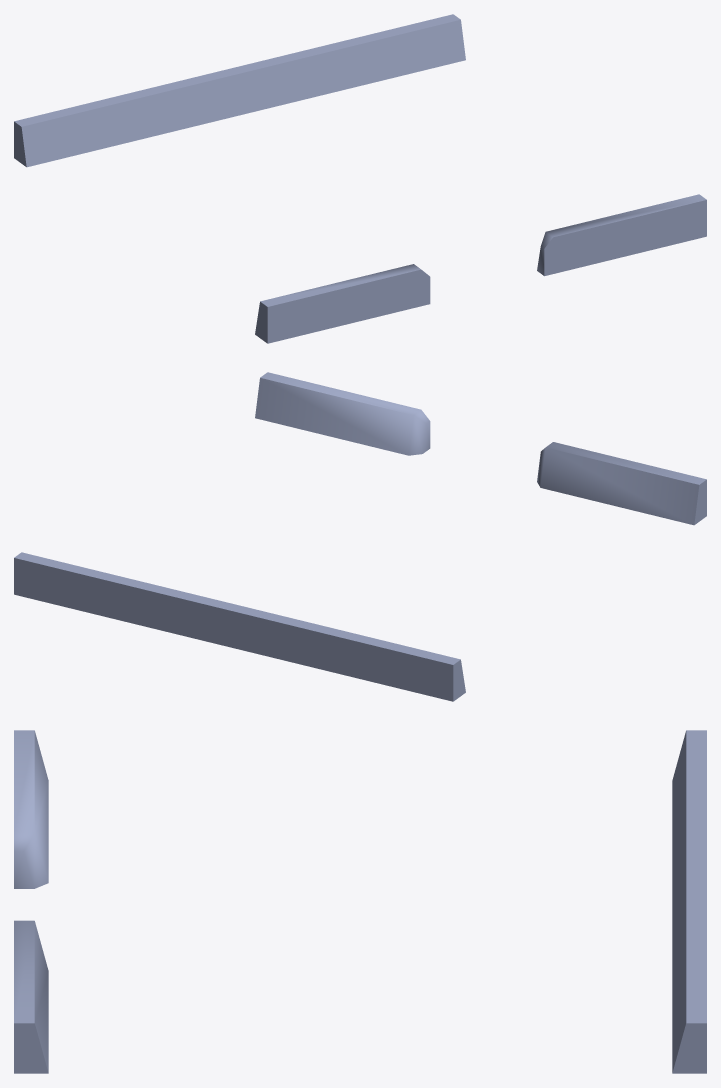
File: road-driveway-single-barrier.glb
3 renders of one model, top to bottom at view 1: azimuth 30°, elevation 25°; view 2: azimuth 150°, elevation 25°; view 3: azimuth 270°, elevation 25°, orthographic. The views are drawn at different scales.
Visible parts, largest first — view 1: road-driveway-single-barrier; view 2: road-driveway-single-barrier; view 3: road-driveway-single-barrier.
Part boxes in pixels (x1,y1,x2,y2): road-driveway-single-barrier: (14, 14, 706, 343); road-driveway-single-barrier: (14, 372, 706, 701); road-driveway-single-barrier: (14, 730, 706, 1073).
Size of the model in its own units: 1 by 0.08 by 1.
1 material, 1 textured.
